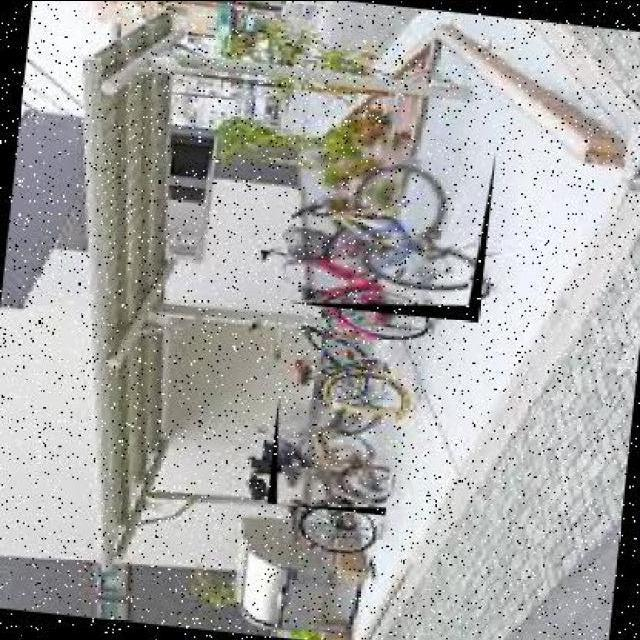bicycle: (282, 128, 498, 325), (268, 397, 399, 519)
